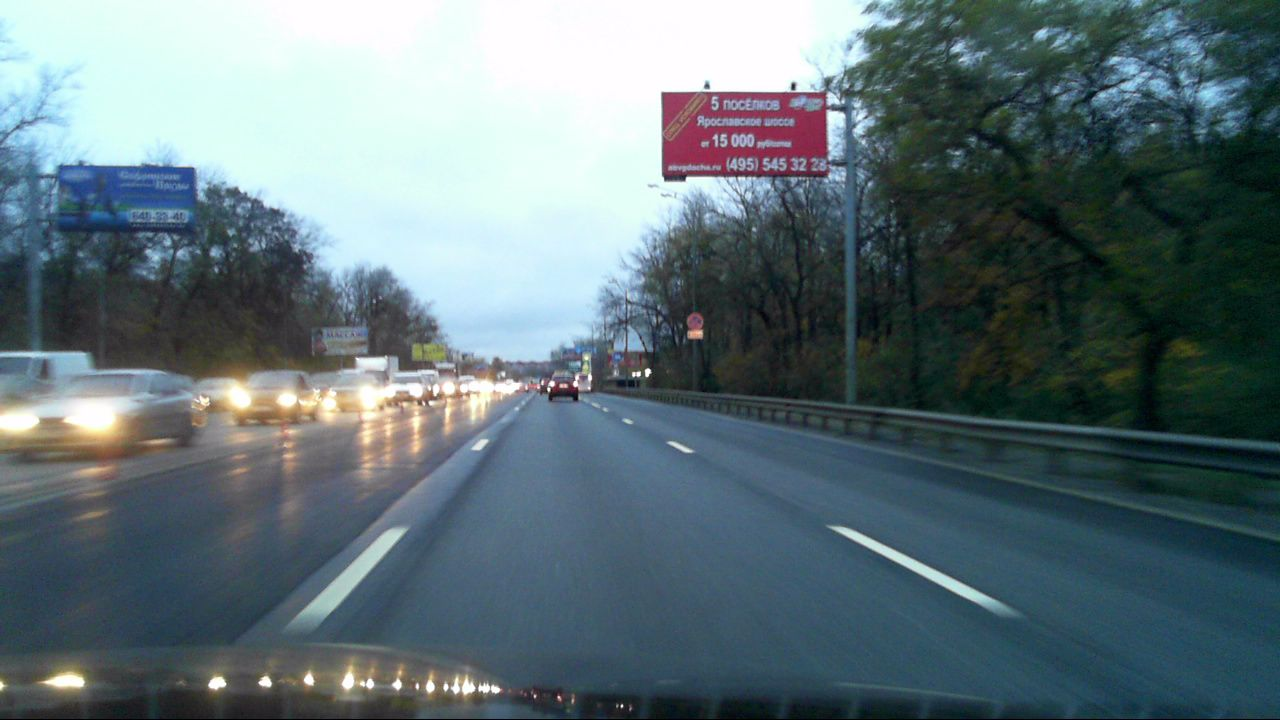No Parking: (687, 312, 703, 329)
